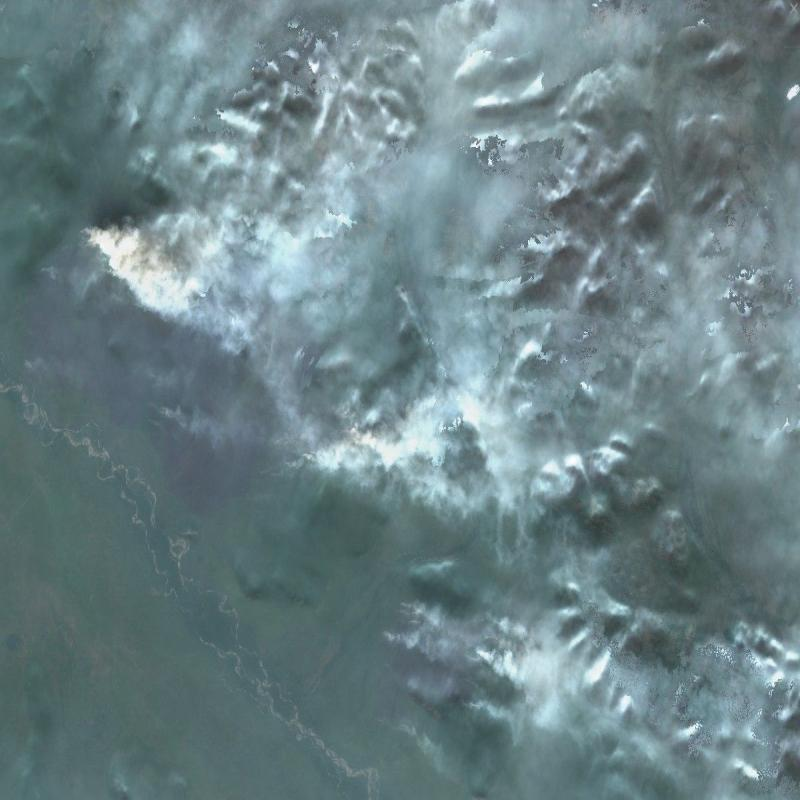fire: (76, 212, 118, 279), (280, 416, 315, 489), (384, 587, 416, 664), (146, 366, 168, 444), (468, 624, 488, 688), (386, 709, 414, 744)
